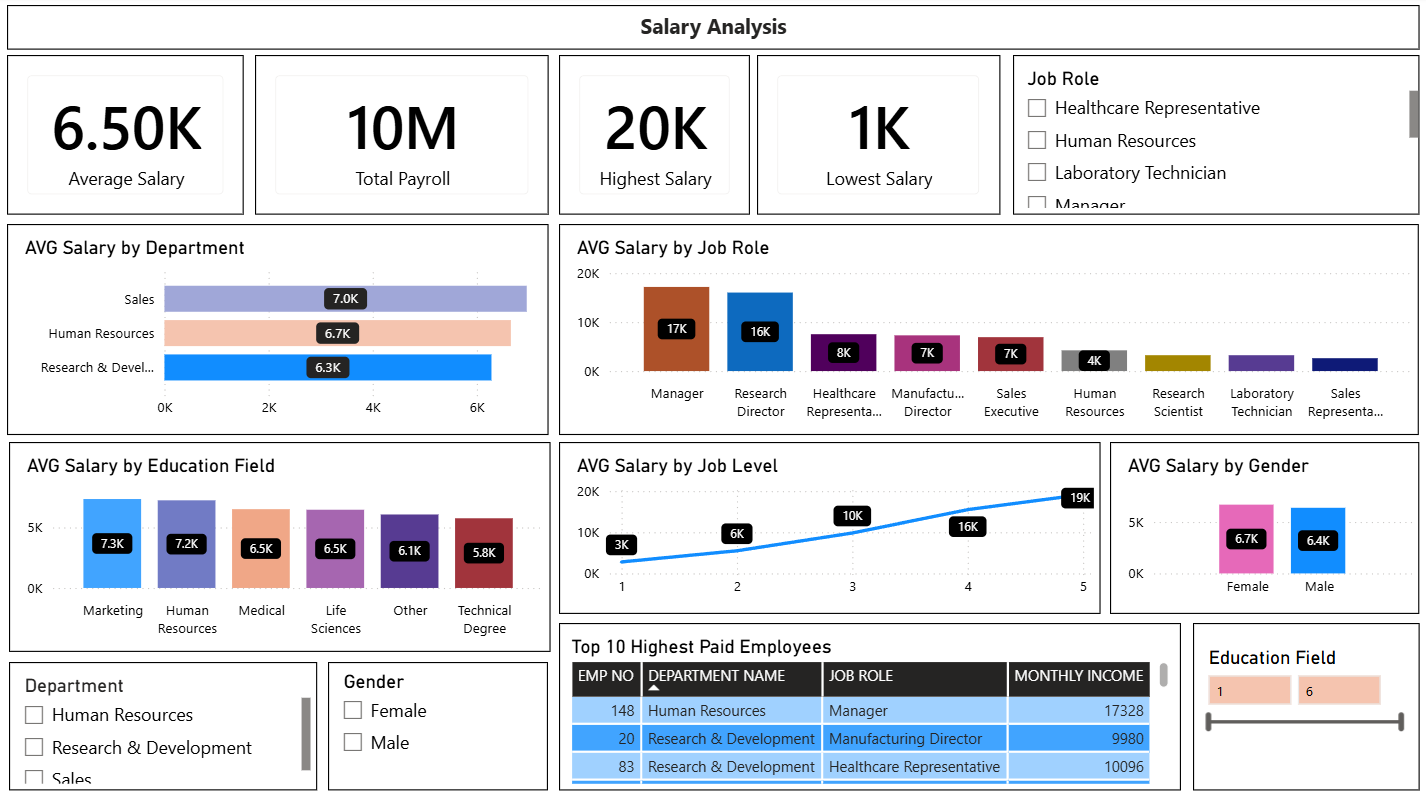

The page's visual inventory and layout, read from the dashboard file:
{"tool":"powerbi","page":{"name":"Salary Analysis","canvas":[1280,720],"ordinal":3},"visuals":[{"type":"textbox","box":[6.8,6.8,1265.4,39.9],"z":0},{"type":"cardVisual","fields":{"Data":["hr business_travel.Average Salary"]},"box":[7.2,51.9,212.2,143.3],"z":1000},{"type":"cardVisual","fields":{"Data":["hr business_travel.Total Payroll"]},"box":[229.3,51.9,263.3,143.3],"z":2000},{"type":"cardVisual","fields":{"Data":["hr business_travel.Highest Salary"]},"box":[501.5,51.9,171,143.3],"z":3000},{"type":"cardVisual","fields":{"Data":["hr business_travel.Lowest Salary"]},"box":[678.8,51.9,217.6,143.3],"z":4000},{"type":"clusteredBarChart","title":"AVG Salary by Department","fields":{"Category":["hr department.department_name"],"Y":["hr business_travel.Average Salary"]},"box":[6.8,203.3,485.3,188.7],"z":5000},{"type":"clusteredColumnChart","title":"AVG Salary by Job Role","fields":{"Category":["hr job_role.job_role_name"],"Y":["hr business_travel.Average Salary"]},"box":[501.9,203.3,770.3,188.7],"z":6000},{"type":"clusteredColumnChart","title":"AVG Salary by Education Field","fields":{"Category":["hr education_field.education_field_name"],"Y":["hr business_travel.Average Salary"]},"box":[8.8,398.8,485.3,187.7],"z":7000},{"type":"lineChart","title":"AVG Salary by Job Level","fields":{"Category":["hr employee.job_level"],"Y":["hr business_travel.Average Salary"]},"box":[501.9,398.8,485.3,153.7],"z":8000},{"type":"clusteredColumnChart","title":"AVG Salary by Gender","fields":{"Category":["hr employee.gender"],"Y":["hr business_travel.Average Salary"]},"box":[995,398.8,277.2,153.7],"z":9000},{"type":"tableEx","title":"Top 10 Highest Paid Employees","fields":{"Values":["hr employee.employee_number","hr department.department_name","hr job_role.job_role_name","hr employee.monthly_income"]},"box":[501.9,560.2,557.3,149.8],"z":10000},{"type":"slicer","fields":{"Values":["hr department.department_name"]},"box":[8.8,595.3,276.2,114.8],"z":11000},{"type":"slicer","fields":{"Values":["hr employee.gender"]},"box":[294.7,595.3,197.4,114.8],"z":12000},{"type":"slicer","fields":{"Values":["hr job_role.job_role_name"]},"box":[908.1,51.9,364.5,143.3],"z":13000},{"type":"slicer","fields":{"Values":["hr employee.education_field_id"]},"box":[1068.9,560.2,203.3,149.8],"z":14000}]}

Visuals, with their boxes in screenshot pixels (x1, y1, x2, y2), scaled from the page's 1280x720 canvas onto the 1426x795 screenshot:
textbox: bbox=[8, 8, 1417, 52]
cardVisual - hr business_travel.Average Salary: bbox=[8, 57, 244, 216]
cardVisual - hr business_travel.Total Payroll: bbox=[255, 57, 549, 216]
cardVisual - hr business_travel.Highest Salary: bbox=[559, 57, 749, 216]
cardVisual - hr business_travel.Lowest Salary: bbox=[756, 57, 999, 216]
"AVG Salary by Department" clusteredBarChart: bbox=[8, 224, 548, 433]
"AVG Salary by Job Role" clusteredColumnChart: bbox=[559, 224, 1417, 433]
"AVG Salary by Education Field" clusteredColumnChart: bbox=[10, 440, 550, 648]
"AVG Salary by Job Level" lineChart: bbox=[559, 440, 1100, 610]
"AVG Salary by Gender" clusteredColumnChart: bbox=[1108, 440, 1417, 610]
"Top 10 Highest Paid Employees" tableEx: bbox=[559, 619, 1180, 784]
slicer - hr department.department_name: bbox=[10, 657, 318, 784]
slicer - hr employee.gender: bbox=[328, 657, 548, 784]
slicer - hr job_role.job_role_name: bbox=[1012, 57, 1418, 216]
slicer - hr employee.education_field_id: bbox=[1191, 619, 1417, 784]
